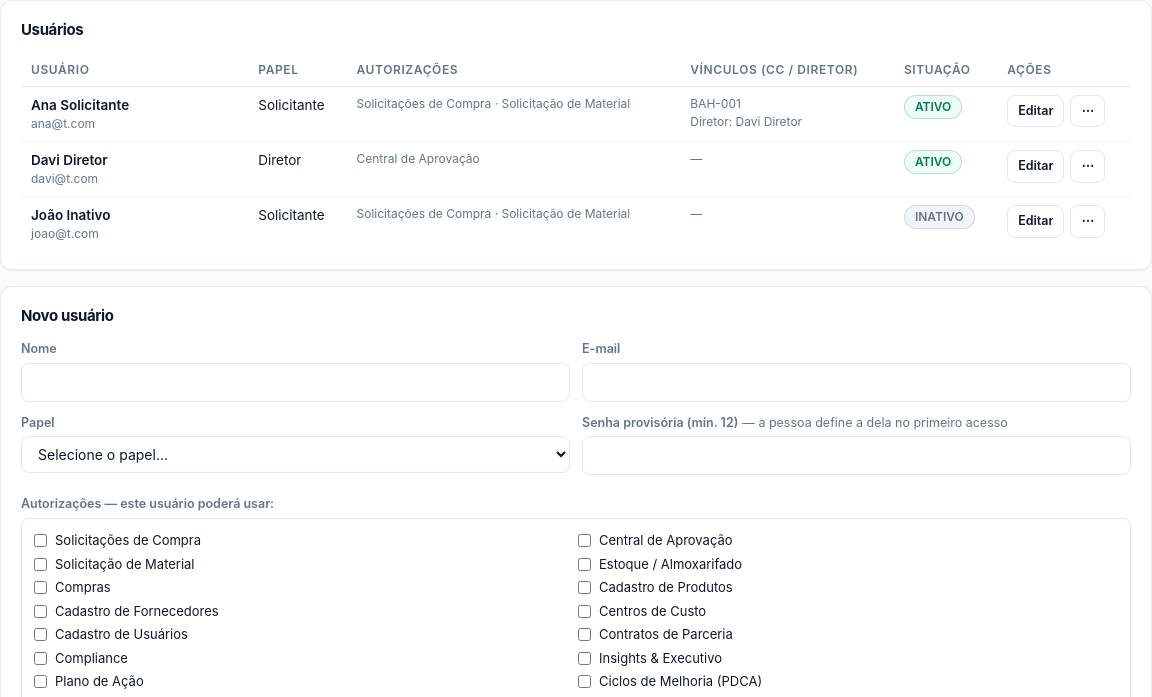
Test: <Usuarios /> › editar trava e-mail e senha, que têm caminho próprio
The image size is (1152, 697).
Expected: the table with test id "tabela-usuarios" is shown, [21,54,1131,251]
Click the button "Editar" in the row of "Ana Solicitante": click(1036, 111) [1007,94,1064,127]
(page scrolled)
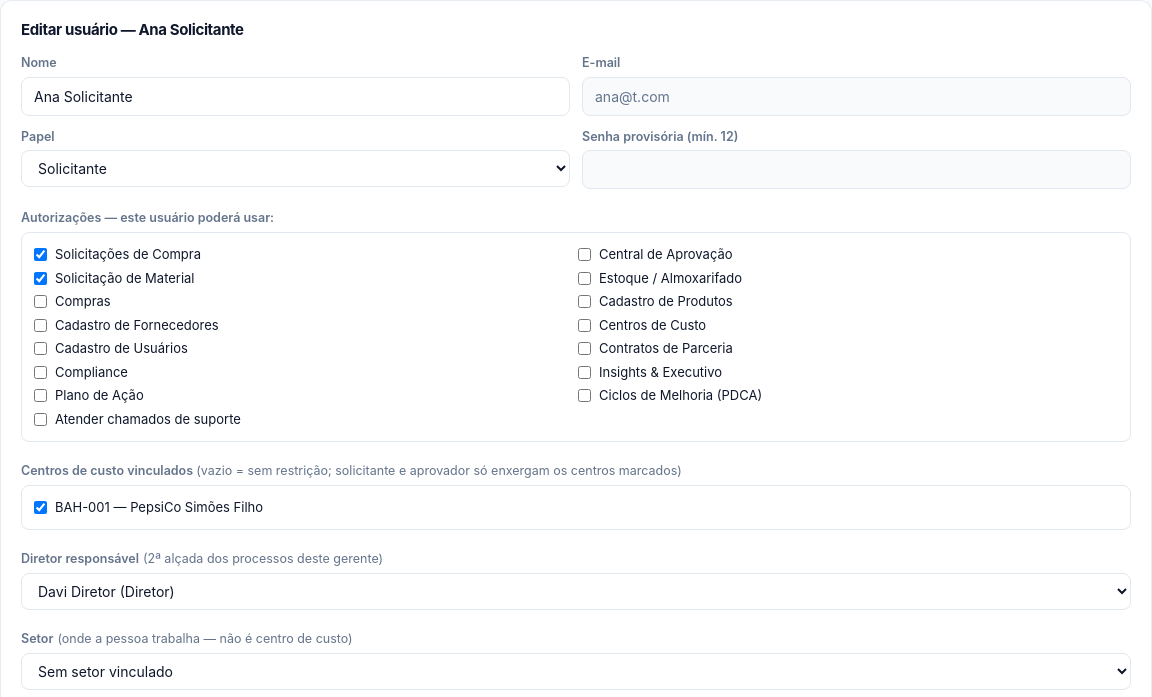
Expected: the field labelled "E-mail" is disabled, [582,76,1131,116]
Expected: the password field labelled "Senha provisória (mín. 12)" is disabled, [582,150,1131,189]
Expected: the checkbox labelled "BAH-001 — PepsiCo Simões Filho" is checked, [34,501,47,514]
